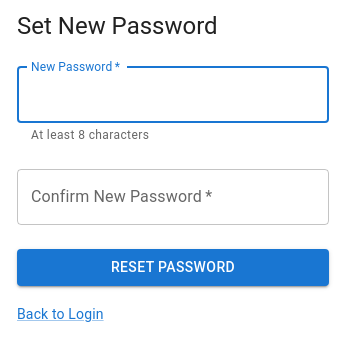
Test case: ResetPasswordPage › shows success message after reset
This screenshot has width=347, height=339.
Step 1. Type "newpassword123" into the password field labelled "New Password *" → (173, 94), box [17, 66, 329, 122]
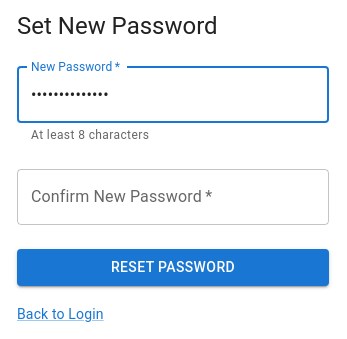
Step 2. Type "newpassword123" into the password field labelled "Confirm New Password *" → (173, 197), box [17, 169, 329, 225]
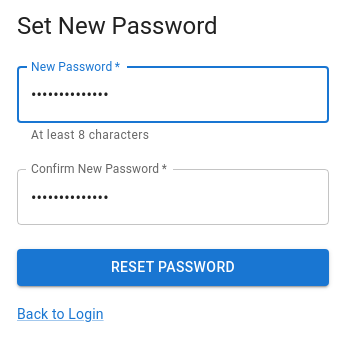
Step 3. Click the button "Reset Password" → (173, 268), box [17, 249, 329, 286]
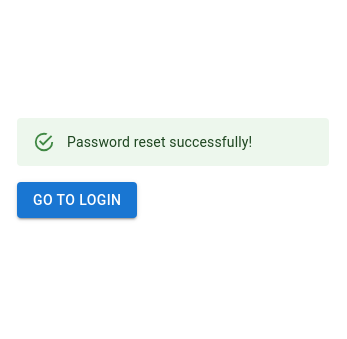
Check: the text "Password reset successfully!" is shown, box [67, 134, 252, 150]
